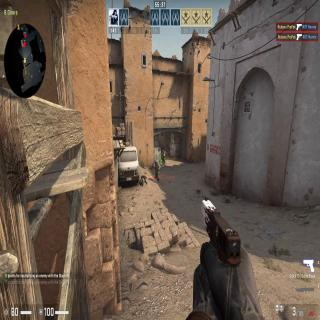CT-Body: (154, 159, 160, 181), (162, 150, 165, 163)
CT-Head: (155, 160, 159, 166), (162, 150, 164, 152)
